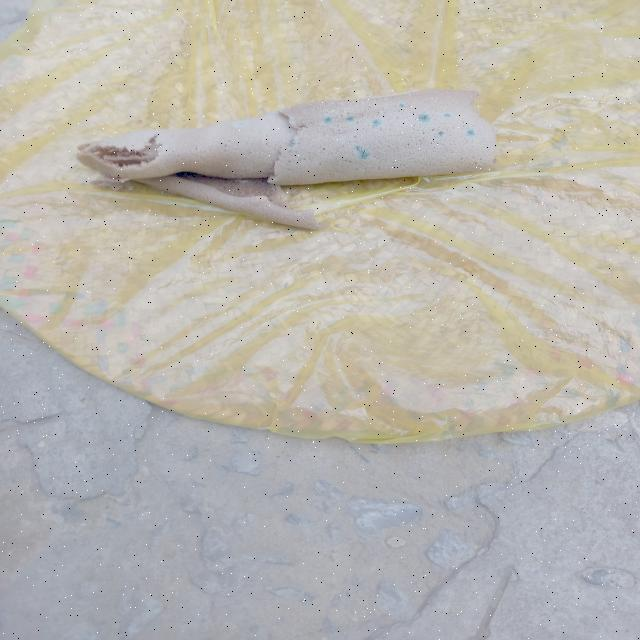injera_mold: (354, 142, 369, 158), (418, 112, 432, 122), (286, 137, 297, 148), (234, 120, 249, 127), (372, 118, 381, 127), (437, 130, 445, 140), (345, 115, 355, 123), (442, 112, 453, 118), (236, 178, 249, 183), (377, 97, 392, 101), (467, 130, 476, 136), (324, 117, 332, 123), (287, 117, 293, 125), (431, 97, 440, 101), (398, 104, 406, 108), (338, 139, 346, 143), (346, 100, 366, 101), (298, 212, 302, 216)
